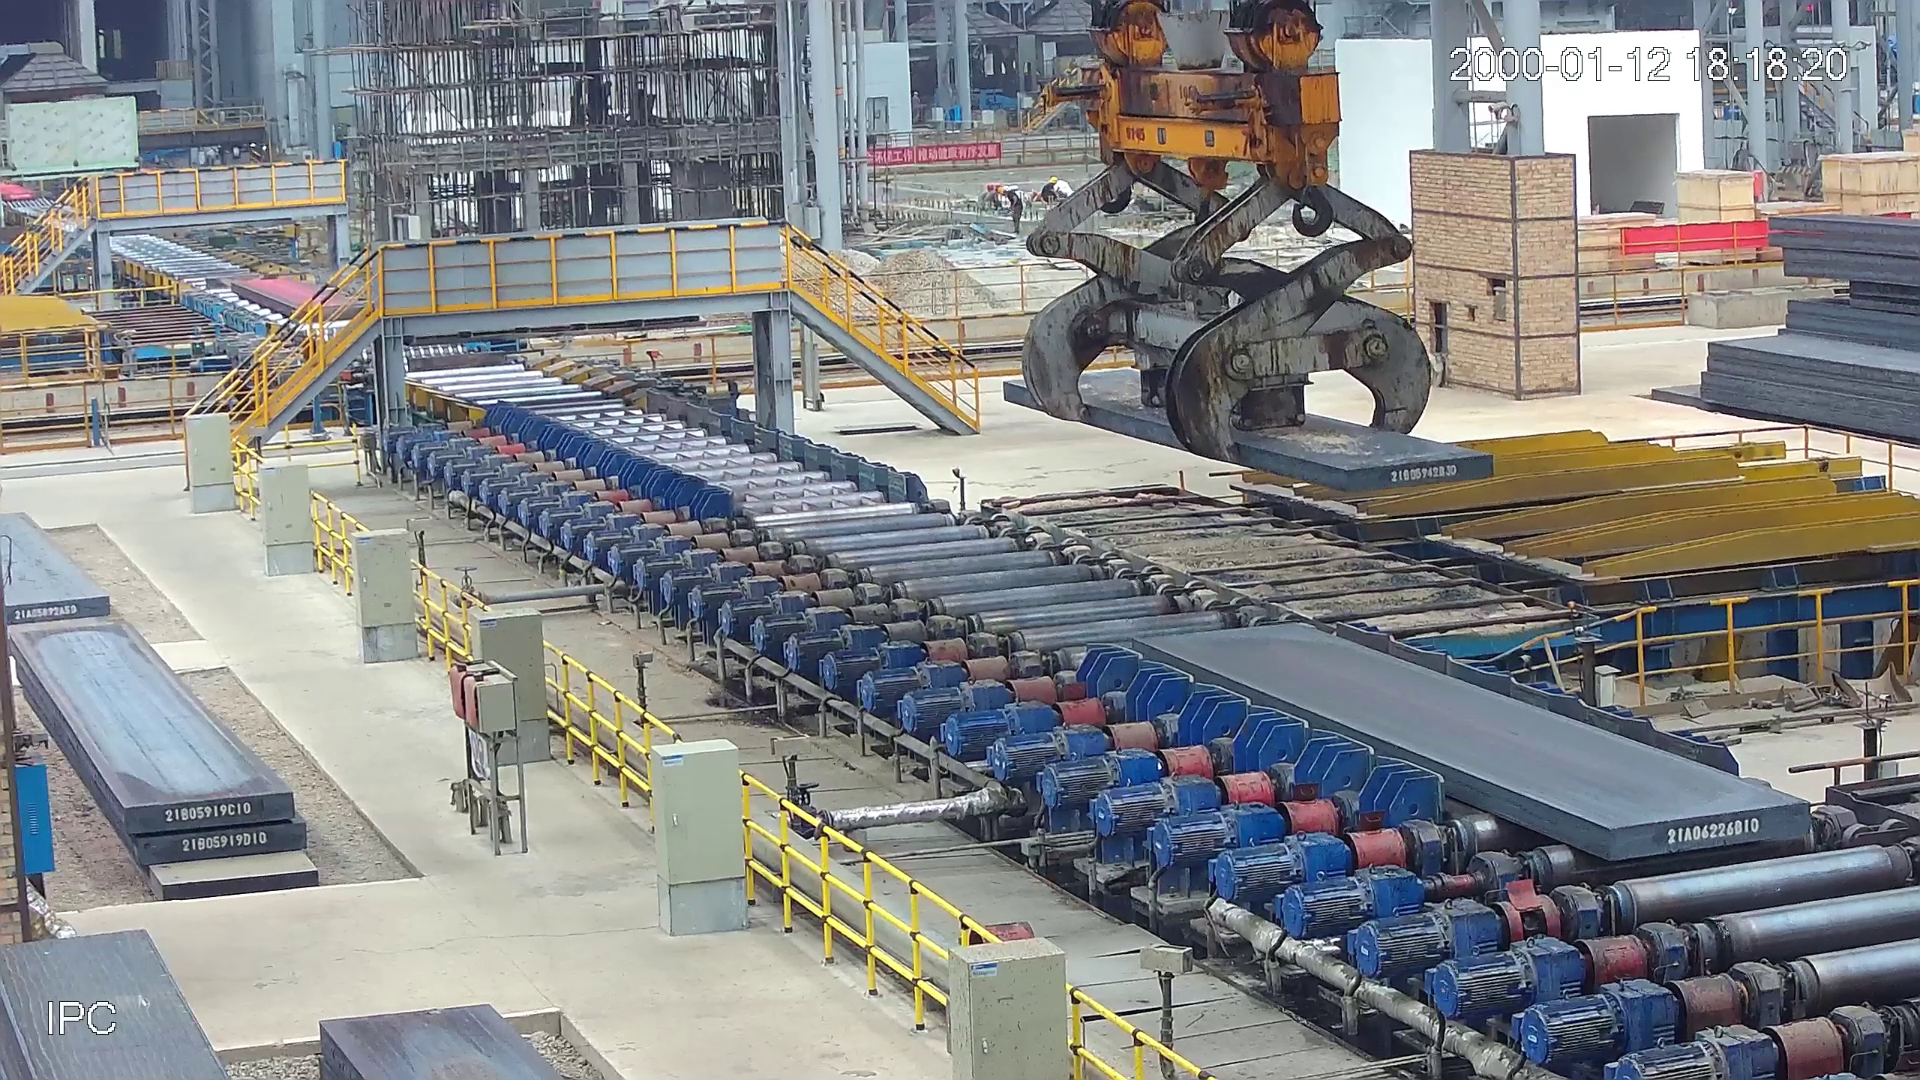craneandslab: (996, 1, 1502, 496)
slab: (1129, 617, 1812, 868), (229, 274, 375, 324)
